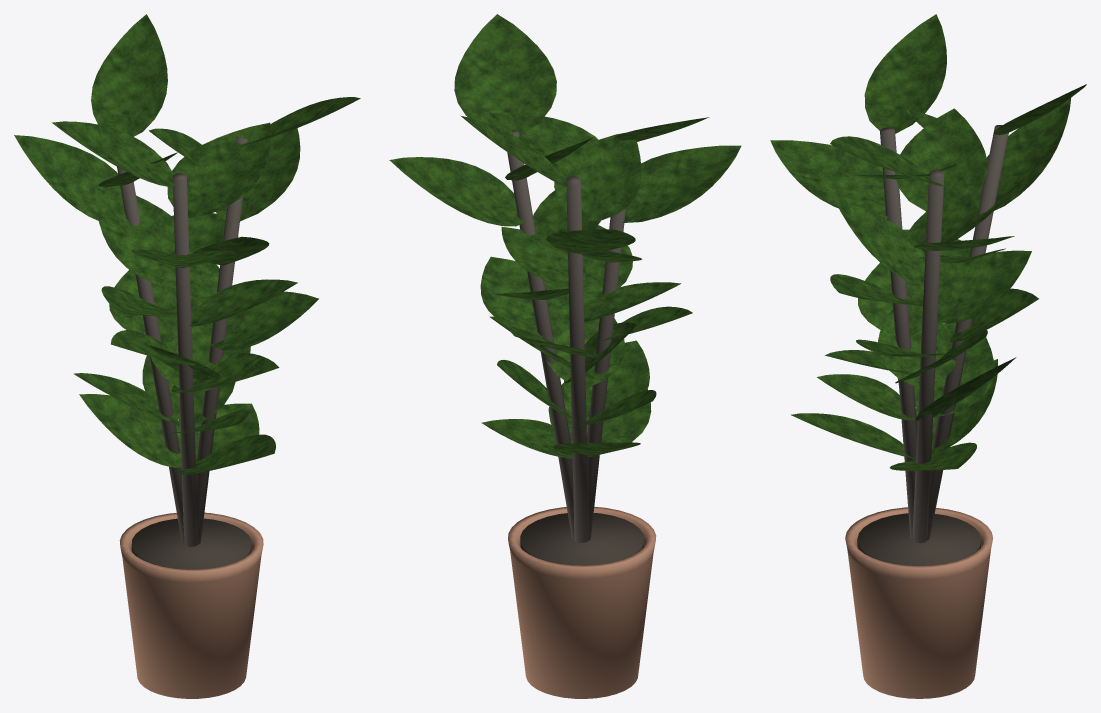
File: bed2_plant.glb
3 renders of one model, left to right at view 1: azimuth 30°, elevation 25°; view 2: azimuth 150°, elevation 25°; view 3: azimuth 270°, elevation 25°, orthographic. The views are drawn at different scales.
Visible parts, largest first — view 1: bed2_plant; view 2: bed2_plant; view 3: bed2_plant.
Boxes of the visible parts, left/top/right/bottom form: bed2_plant: left=14, top=14, right=360, bottom=698; bed2_plant: left=389, top=14, right=741, bottom=698; bed2_plant: left=770, top=14, right=1086, bottom=698.
Size of the model in its own units: 0.7338 by 1.51 by 0.7113.
4 materials, 1 textured.
